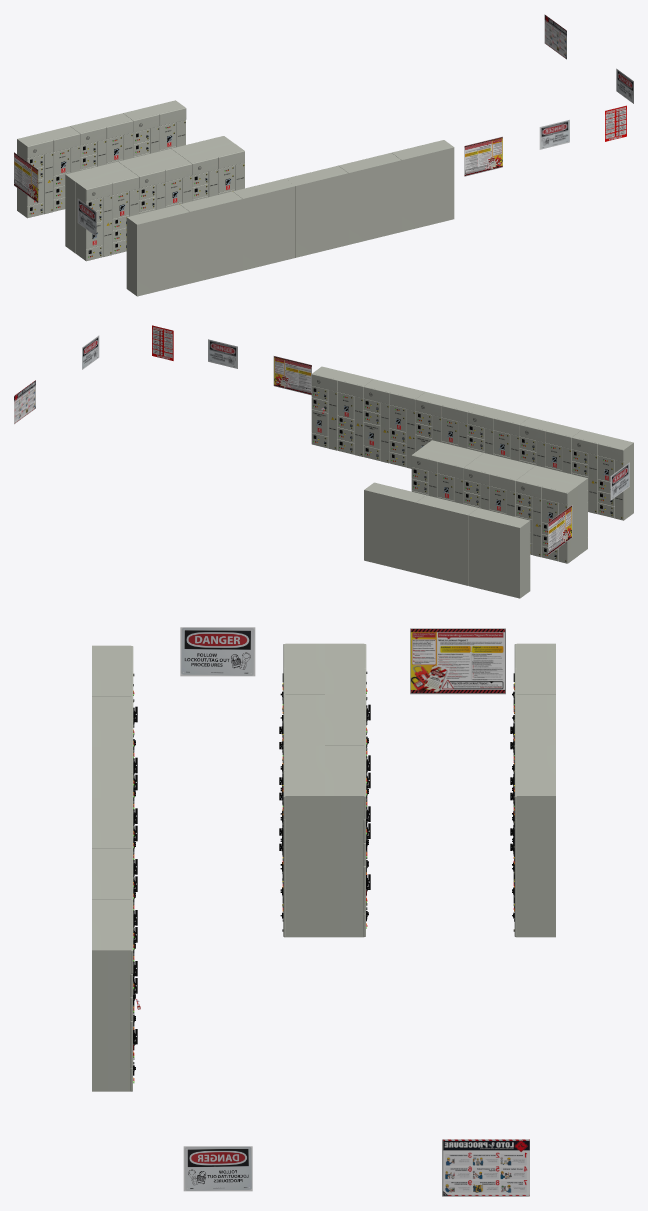
The model's file is Control panel 1.fbx.
3 renders of one model, top to bottom at view 1: azimuth 30°, elevation 25°; view 2: azimuth 150°, elevation 25°; view 3: azimuth 270°, elevation 25°, orthographic. The views are drawn at different scales.
Parts seen in each view (by area): view 1: Cube.008, Cube.009, Cube.007, Cube.292, Cube.010, 71TSXg44g+L._AC_SL1000_, 71TSXg44g+L._AC_SL1000_.001, 81vvZPJM3wL._SL1500_, d316e3ebb86a0e56cdcdc484bf984949, yvu, 81vvZPJM3wL._SL1500_.002, 81vvZPJM3wL._SL1500_.001; view 2: Cube.292, Cube.009, Cube.008, Cube.010, Cube.007, 71TSXg44g+L._AC_SL1000_, 71TSXg44g+L._AC_SL1000_.001, 81vvZPJM3wL._SL1500_, d316e3ebb86a0e56cdcdc484bf984949, yvu, 81vvZPJM3wL._SL1500_.002, 81vvZPJM3wL._SL1500_.001; view 3: Cube.010, Cube.009, Cube.007, Cube.292, Cube.008, 71TSXg44g+L._AC_SL1000_.001, yvu, 81vvZPJM3wL._SL1500_.002, 81vvZPJM3wL._SL1500_.001.
Part boxes in pixels (bbox=[...]): Cube.008: bbox=[126, 178, 295, 296]; Cube.009: bbox=[286, 140, 454, 257]; Cube.007: bbox=[76, 143, 244, 261]; Cube.292: bbox=[17, 100, 186, 218]; Cube.010: bbox=[65, 136, 233, 253]; 71TSXg44g+L._AC_SL1000_: bbox=[464, 136, 502, 176]; 71TSXg44g+L._AC_SL1000_.001: bbox=[14, 152, 38, 202]; 81vvZPJM3wL._SL1500_: bbox=[539, 119, 569, 149]; d316e3ebb86a0e56cdcdc484bf984949: bbox=[605, 105, 626, 141]; yvu: bbox=[544, 14, 566, 59]; 81vvZPJM3wL._SL1500_.002: bbox=[77, 198, 96, 236]; 81vvZPJM3wL._SL1500_.001: bbox=[616, 68, 633, 103]; Cube.292: bbox=[364, 482, 530, 598]; Cube.009: bbox=[311, 366, 477, 468]; Cube.008: bbox=[467, 404, 633, 520]; Cube.010: bbox=[411, 447, 577, 563]; Cube.007: bbox=[422, 440, 587, 555]; 71TSXg44g+L._AC_SL1000_: bbox=[273, 356, 311, 395]; 71TSXg44g+L._AC_SL1000_.001: bbox=[548, 505, 572, 554]; 81vvZPJM3wL._SL1500_: bbox=[208, 339, 237, 368]; d316e3ebb86a0e56cdcdc484bf984949: bbox=[152, 325, 173, 360]; yvu: bbox=[14, 380, 35, 424]; 81vvZPJM3wL._SL1500_.002: bbox=[610, 462, 629, 500]; 81vvZPJM3wL._SL1500_.001: bbox=[82, 335, 99, 369]; Cube.010: bbox=[325, 643, 370, 937]; Cube.009: bbox=[92, 798, 137, 1091]; Cube.007: bbox=[279, 643, 324, 937]; Cube.292: bbox=[510, 643, 555, 937]; Cube.008: bbox=[92, 645, 137, 914]; 71TSXg44g+L._AC_SL1000_.001: bbox=[410, 628, 505, 694]; yvu: bbox=[442, 1139, 529, 1196]; 81vvZPJM3wL._SL1500_.002: bbox=[180, 627, 255, 676]; 81vvZPJM3wL._SL1500_.001: bbox=[183, 1146, 252, 1191].
Bounding box in the file's own units: 3259 × 429 × 1237.
9 materials, 7 textured.
